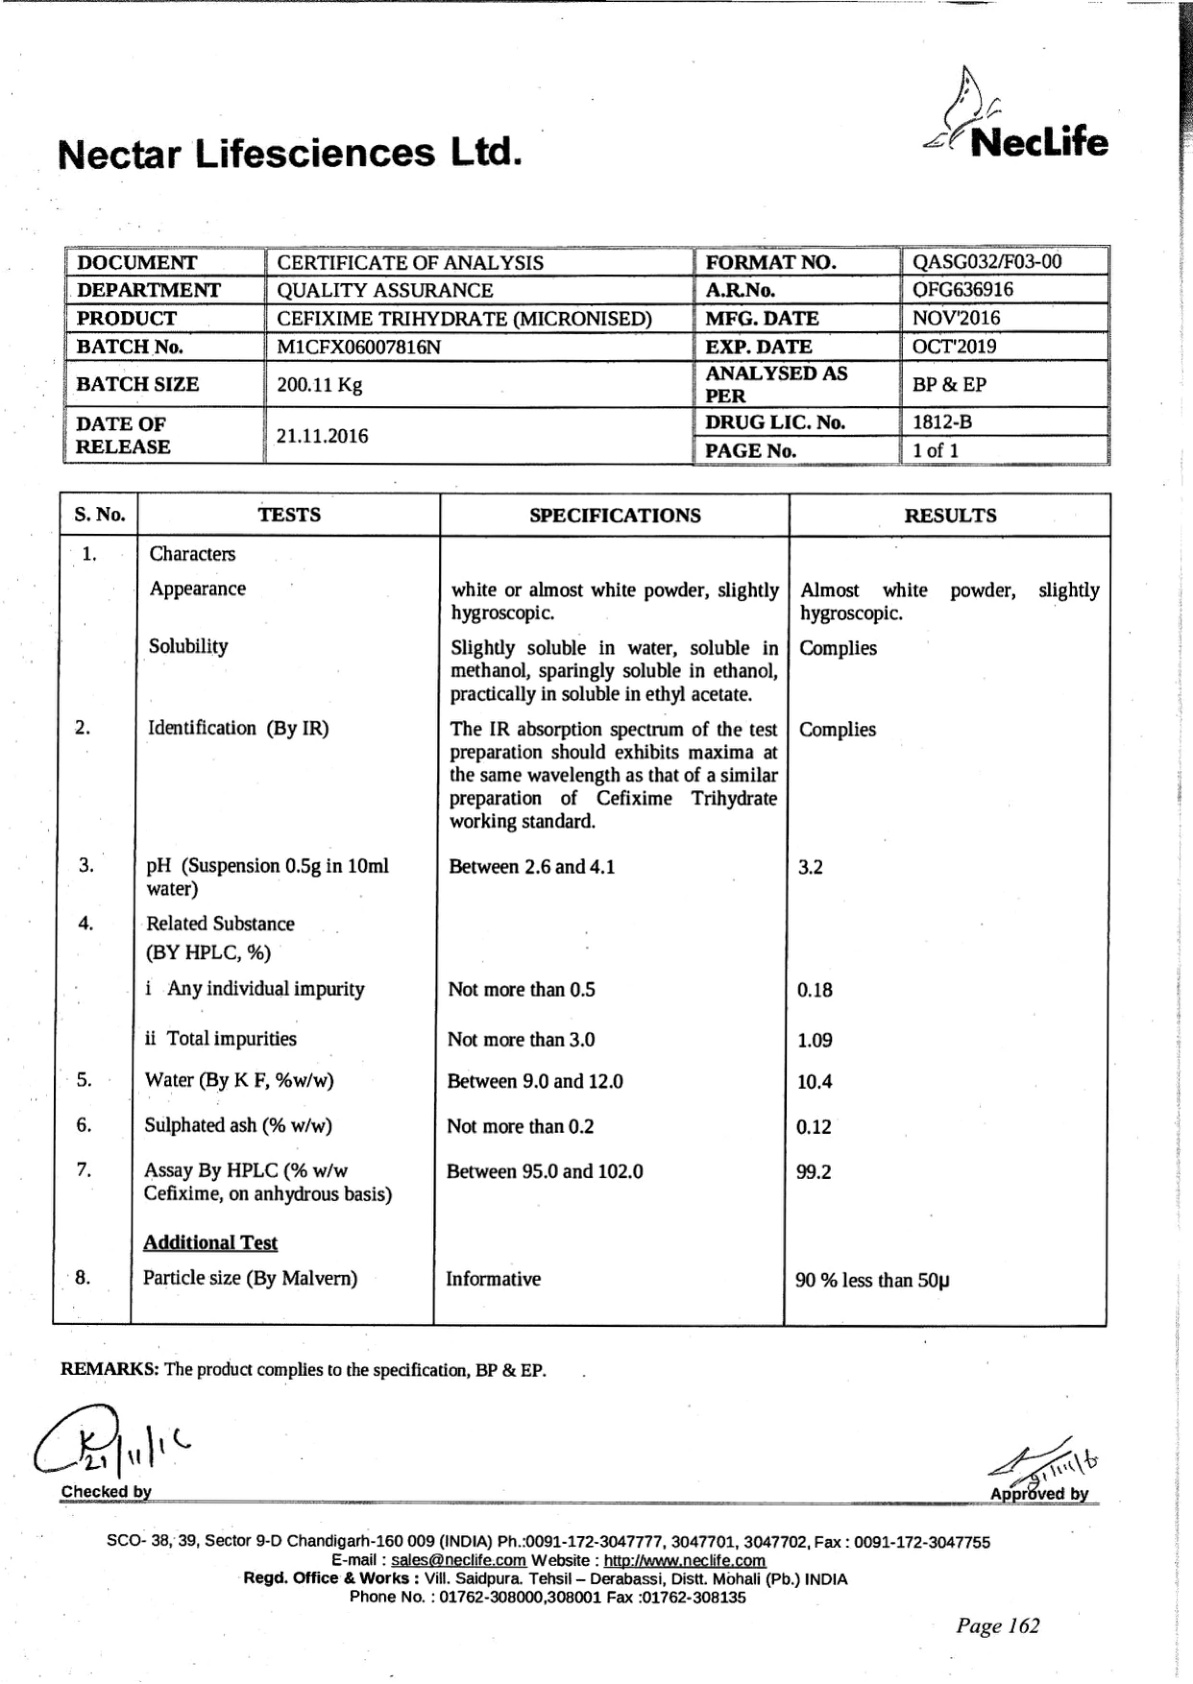full_lined: (61, 243, 1112, 465)
partial_lined: (50, 491, 1112, 1328)
